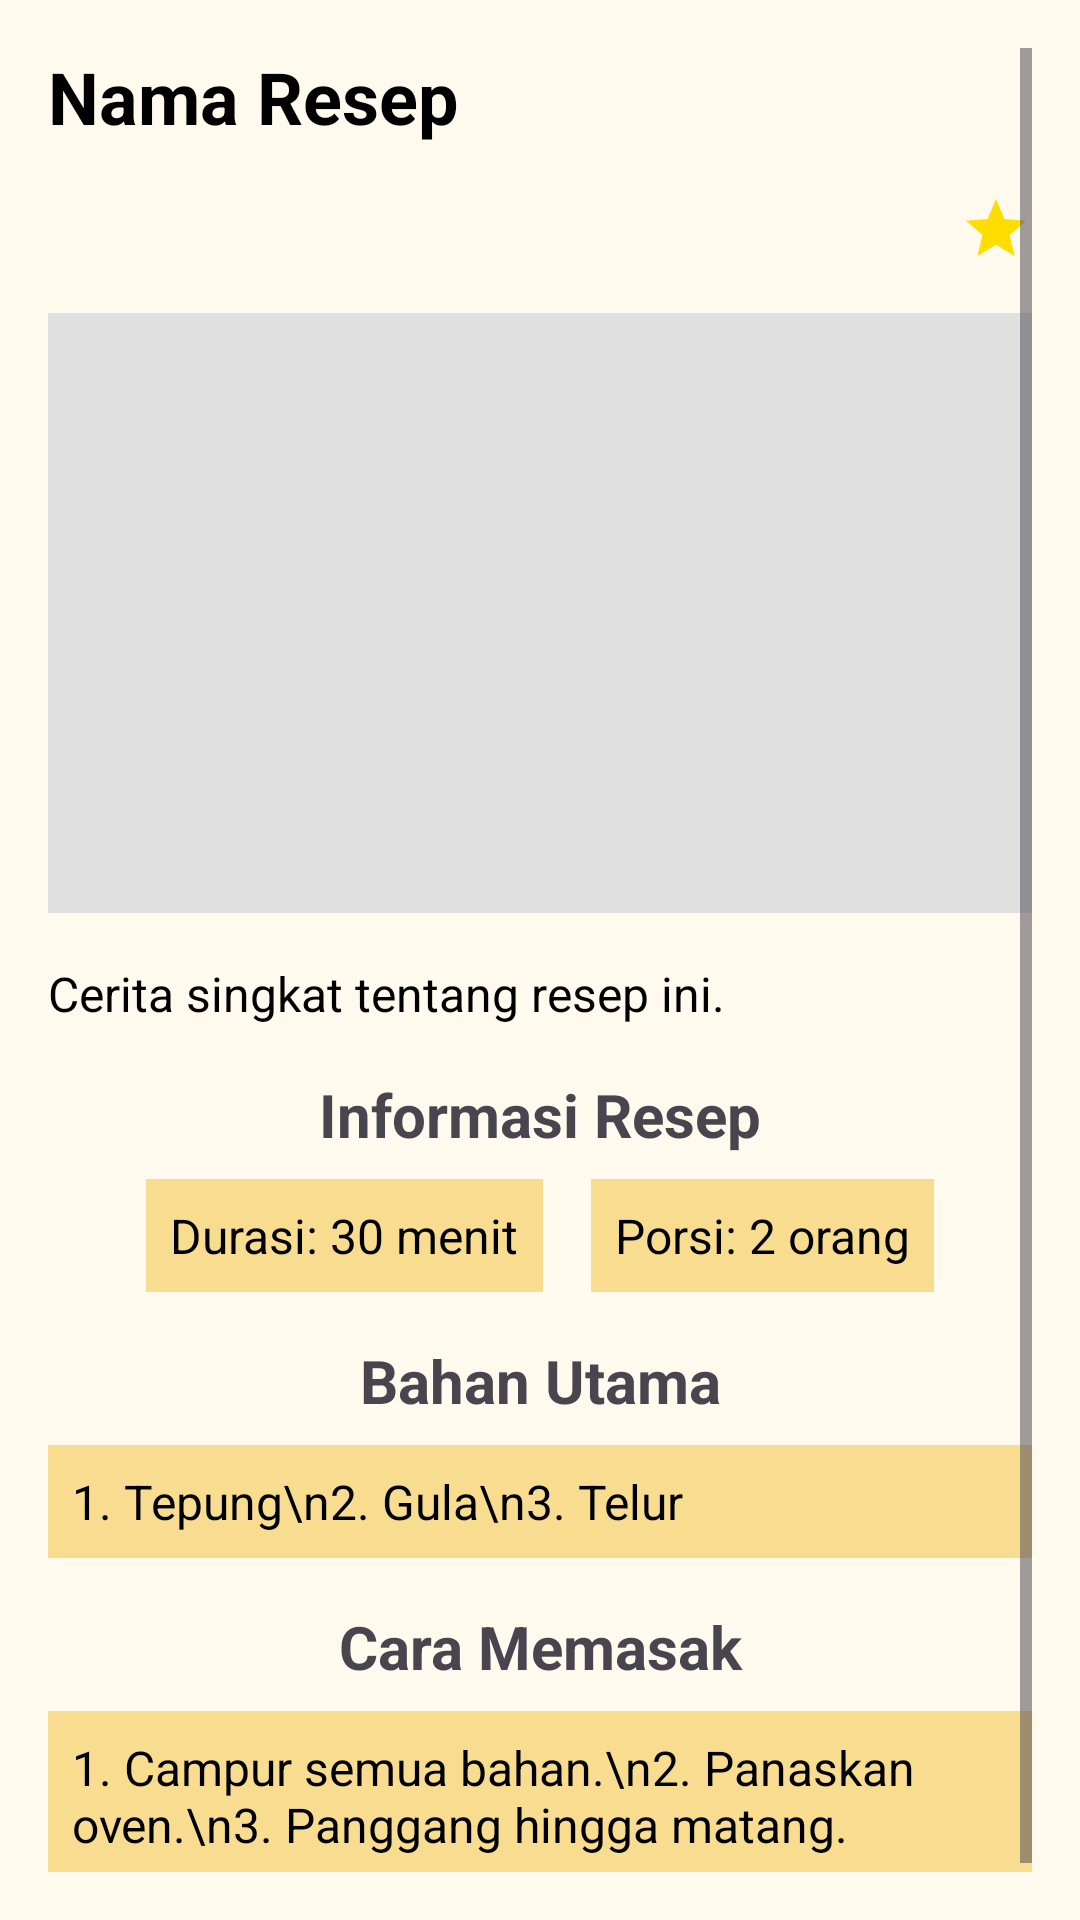

Icon bounding boxes for this 1080 x 1920 phone screenshot, format (x1, y1, x2, y2):
star: (966, 193, 1032, 265)
